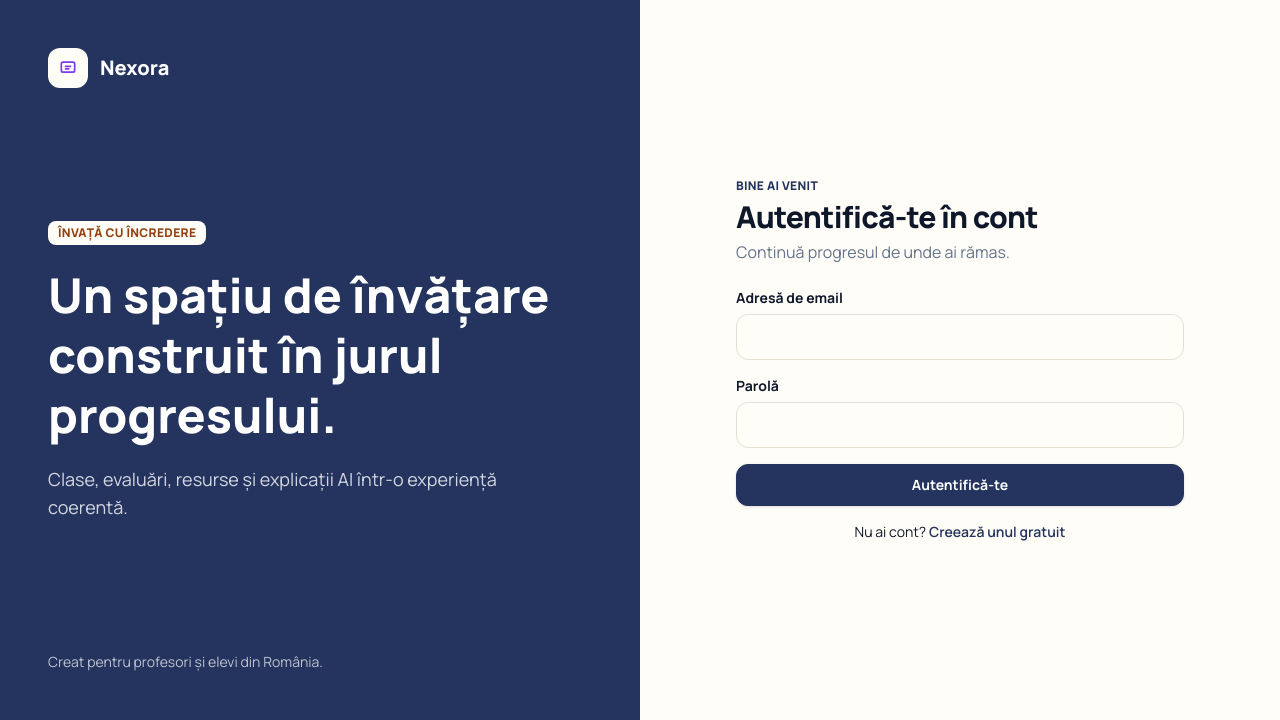
Test: signing in › stays on the login page with a Romanian message when the credentials are wrong
Type "ana@example.com" into the field labelled "Adresă de email" at {"x": 960, "y": 337}, box [736,314,1184,360]
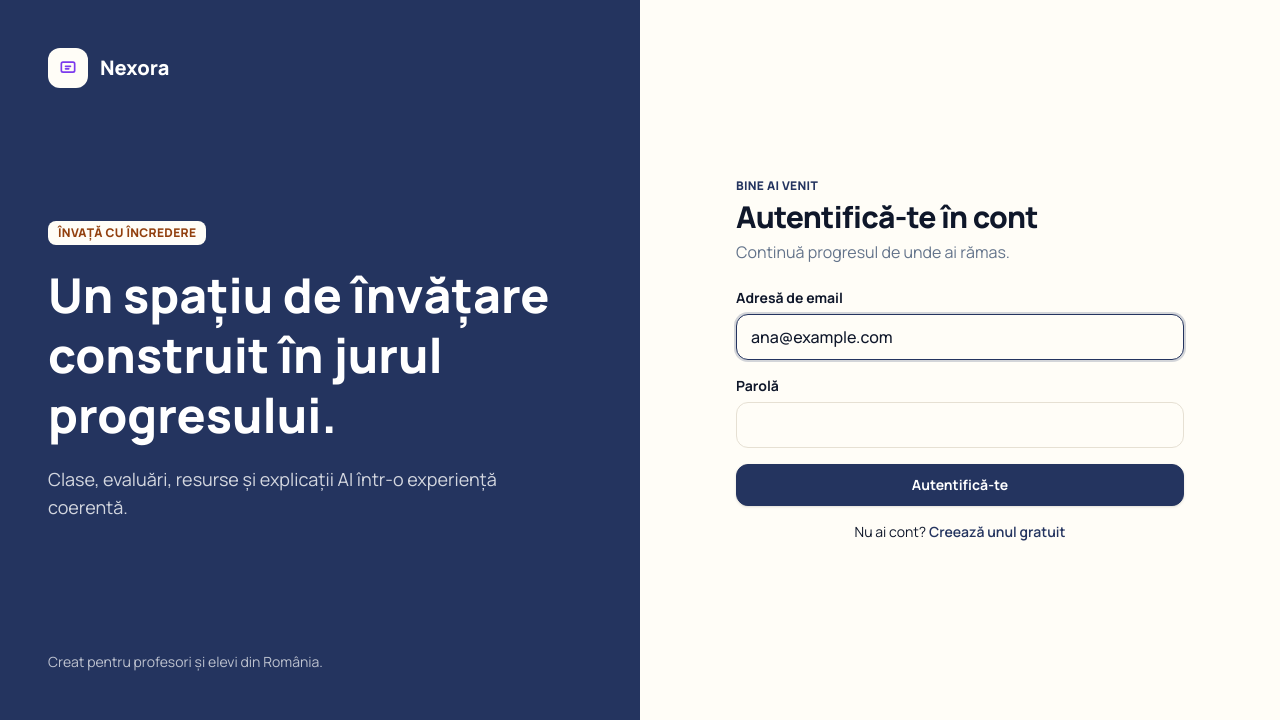
Type "parola-lunga" into the password field labelled "Parolă" at {"x": 960, "y": 425}, box [736,402,1184,448]
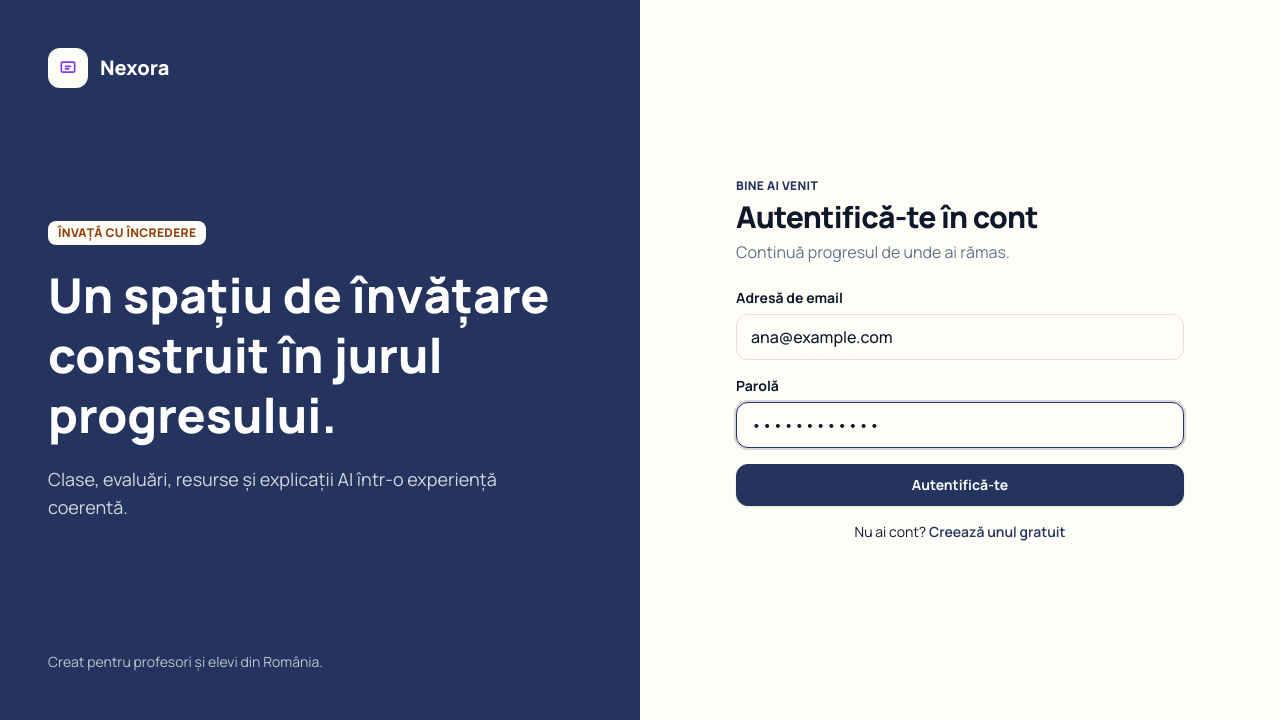
Click the button "Autentifică-te" at {"x": 960, "y": 485}, box [736,464,1184,506]
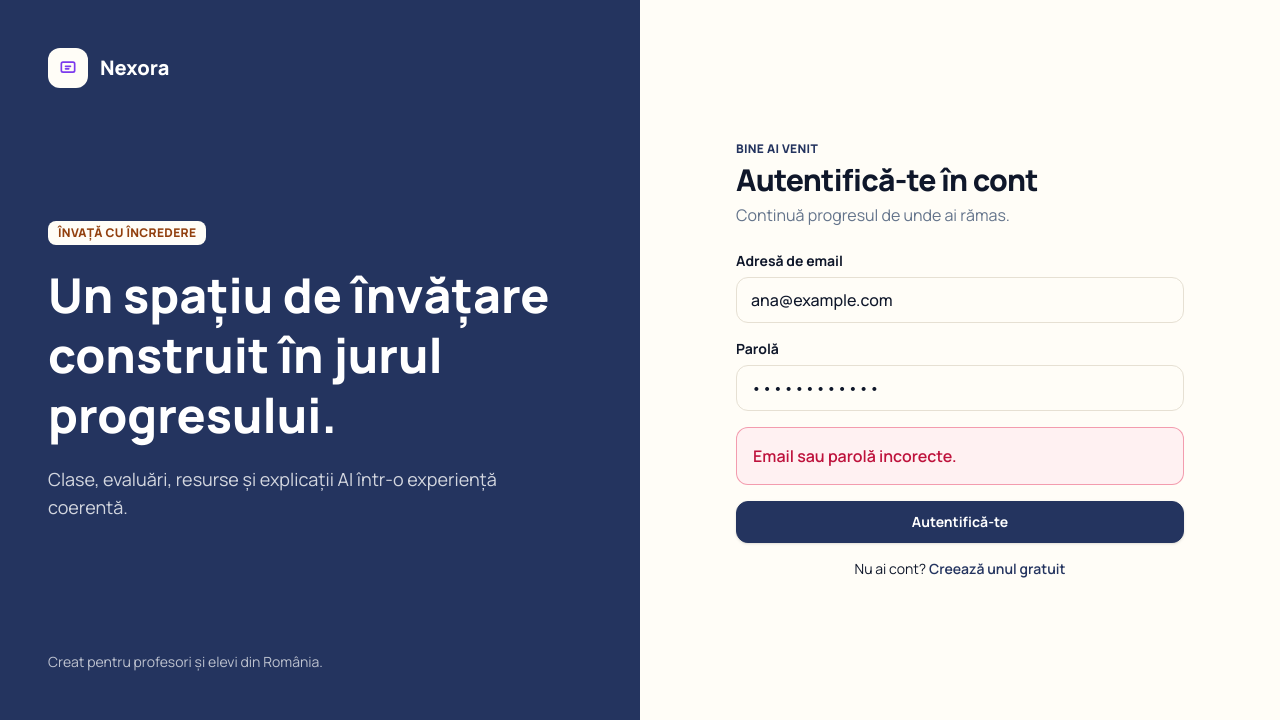
Expected: the heading "Autentifică-te în cont" is shown, [736,159,1038,200]
Result: the message reads "Email sau parolă incorecte." at [753,445,956,467]
